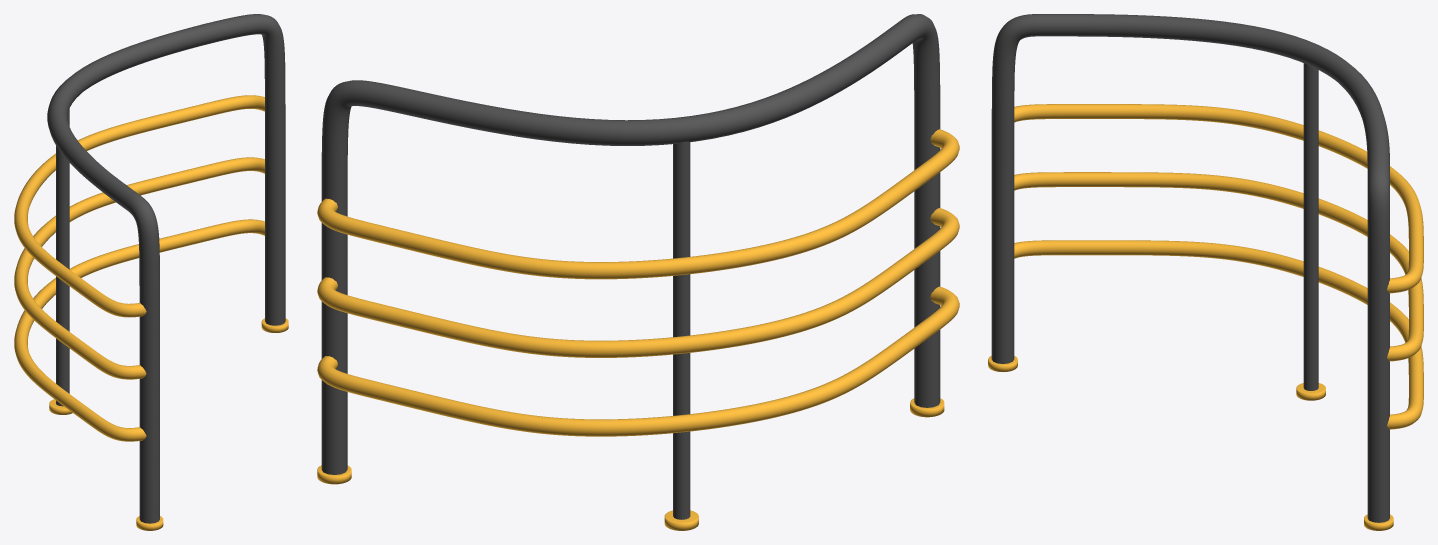
The model's file is Ringhiera2x1_Angolo.fbx.
3 views of the same model, side by side, from view 1: azimuth 30°, elevation 25°; view 2: azimuth 150°, elevation 25°; view 3: azimuth 270°, elevation 25° (orthographic). The views are drawn at different scales.
Visible parts, largest first — view 1: MainStruct, BarraOriz3, BarraOriz1, BarraOriz2, BarraVert; view 2: MainStruct, BarraOriz1, BarraOriz2, BarraOriz3, BarraVert; view 3: MainStruct, BarraOriz3, BarraOriz2, BarraOriz1, BarraVert.
Boxes of the visible parts, left/top/right/bottom form: MainStruct: left=47, top=14, right=285, bottom=523; BarraOriz3: left=14, top=95, right=264, bottom=317; BarraOriz1: left=14, top=157, right=264, bottom=379; BarraOriz2: left=14, top=219, right=264, bottom=441; BarraVert: left=56, top=108, right=69, bottom=406; MainStruct: left=321, top=14, right=940, bottom=474; BarraOriz1: left=317, top=208, right=959, bottom=357; BarraOriz2: left=317, top=286, right=959, bottom=436; BarraOriz3: left=317, top=129, right=959, bottom=279; BarraVert: left=673, top=141, right=690, bottom=519; MainStruct: left=991, top=14, right=1389, bottom=522; BarraOriz3: left=1014, top=104, right=1423, bottom=293; BarraOriz2: left=1014, top=240, right=1423, bottom=429; BarraOriz1: left=1014, top=172, right=1423, bottom=361; BarraVert: left=1303, top=63, right=1318, bottom=390.
Size of the model in its own units: 116 by 103 by 116.
